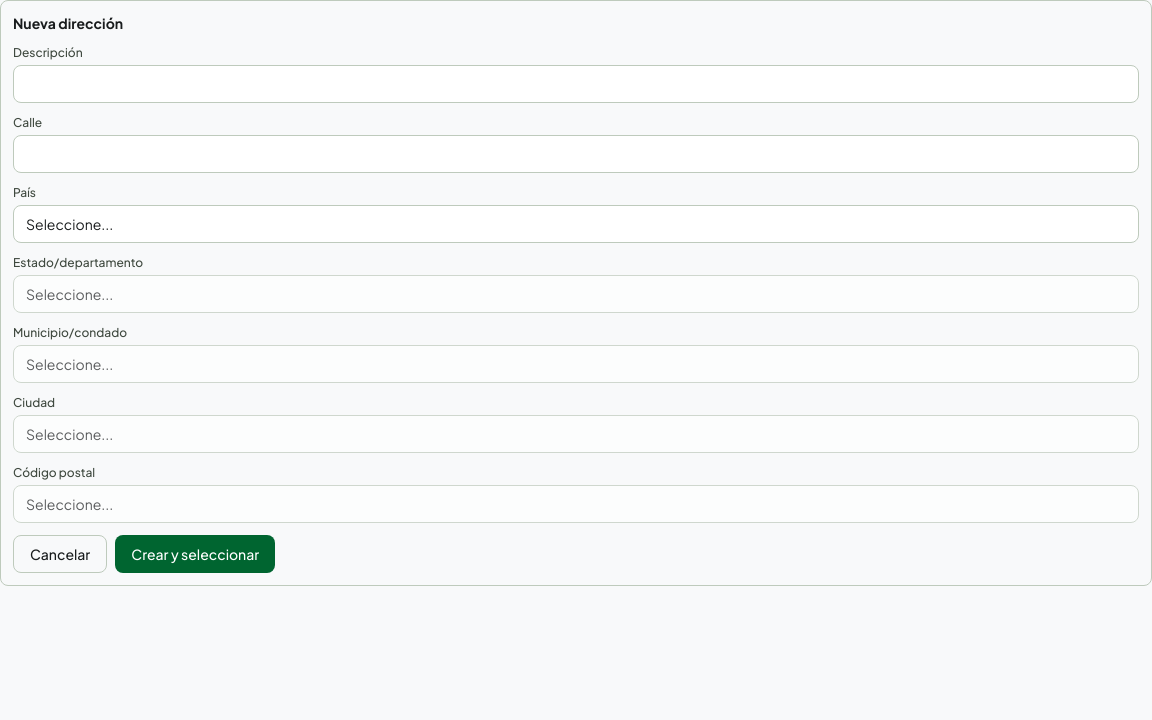
Test: NewAddressForm › renders creation errors without notifying success ({})
Type " Casa " into the field labelled "Descripción".
click(576, 84); type(" Casa ")  # box [13,65,1139,103]
Type " Calle 1 " into the field labelled "Calle".
click(576, 154); type(" Calle 1 ")  # box [13,135,1139,173]
Select "GTM · GTM" in the dropdown labelled "País" at (576, 224), box [13,205,1139,243]
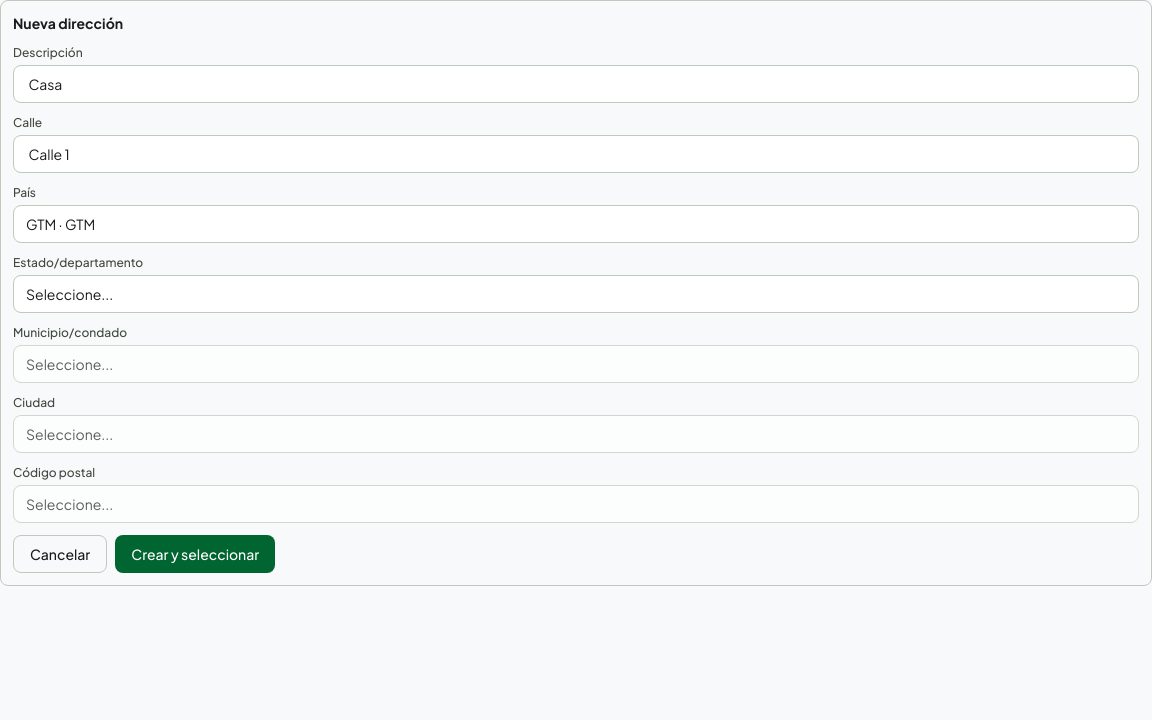
Select "01 · 01" in the dropdown labelled "Estado/departamento" at (576, 294), box [13,275,1139,313]
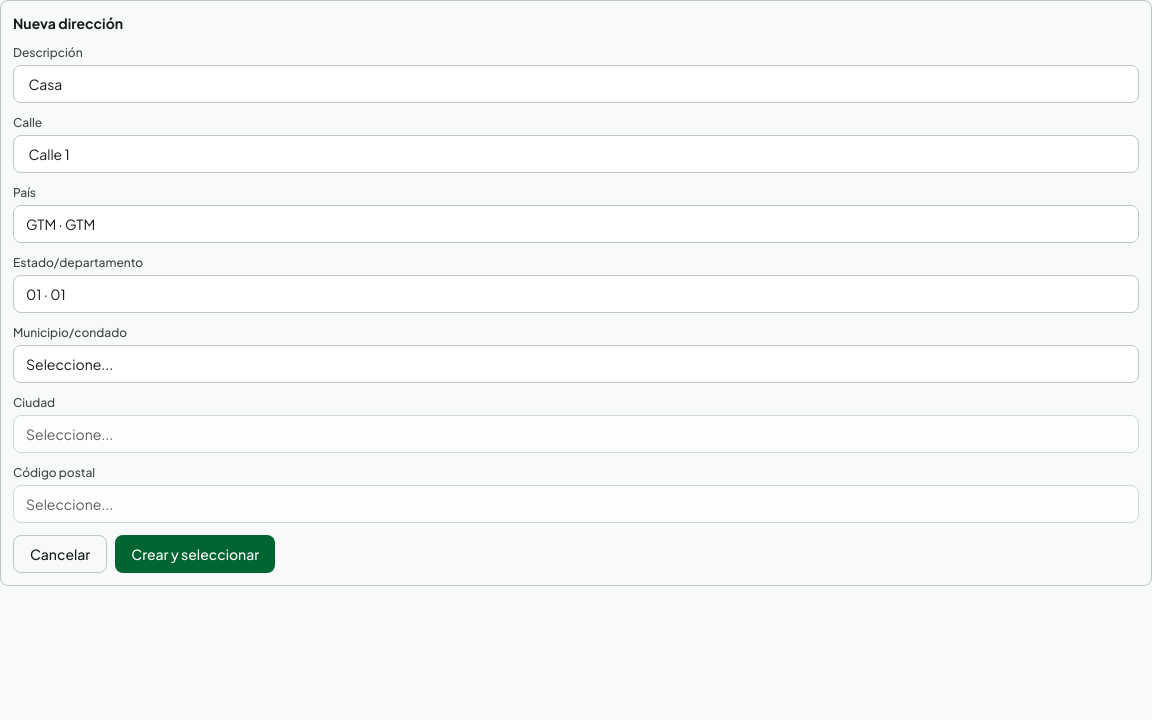
Select "0101 · 0101" in the dropdown labelled "Municipio/condado" at (576, 364), box [13,345,1139,383]
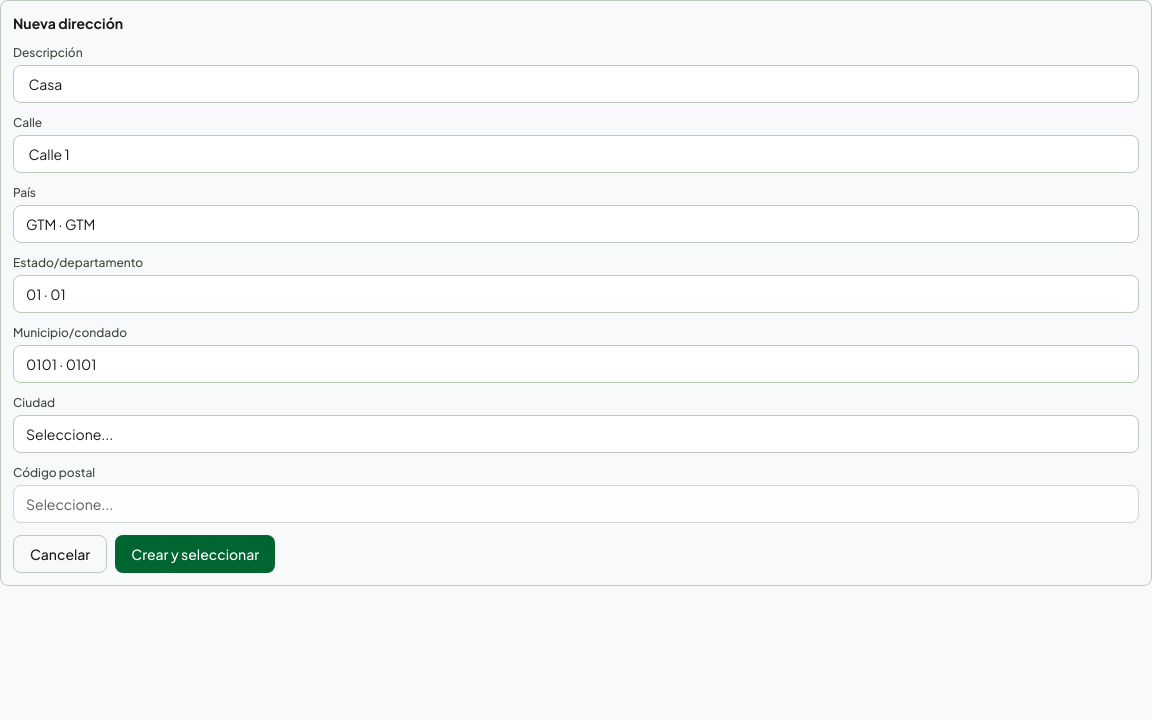
Select "GUA" in the dropdown labelled "Ciudad" at (576, 434), box [13,415,1139,453]
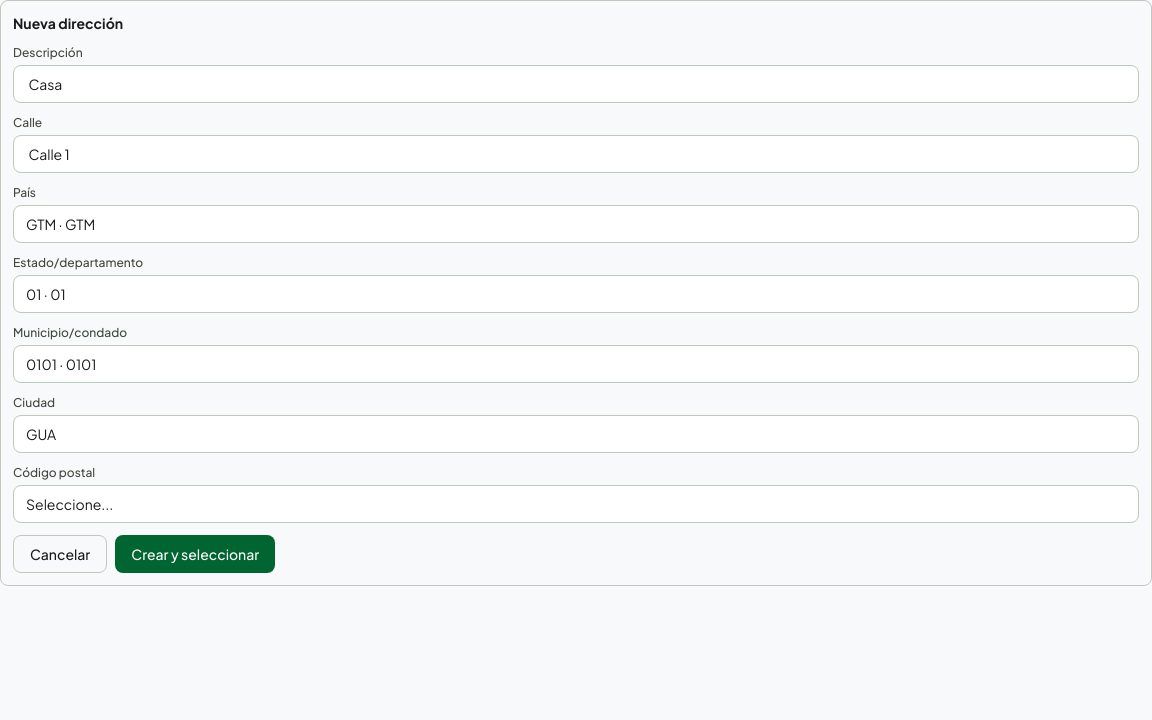
Select "01001" in the dropdown labelled "Código postal" at (576, 504), box [13,485,1139,523]
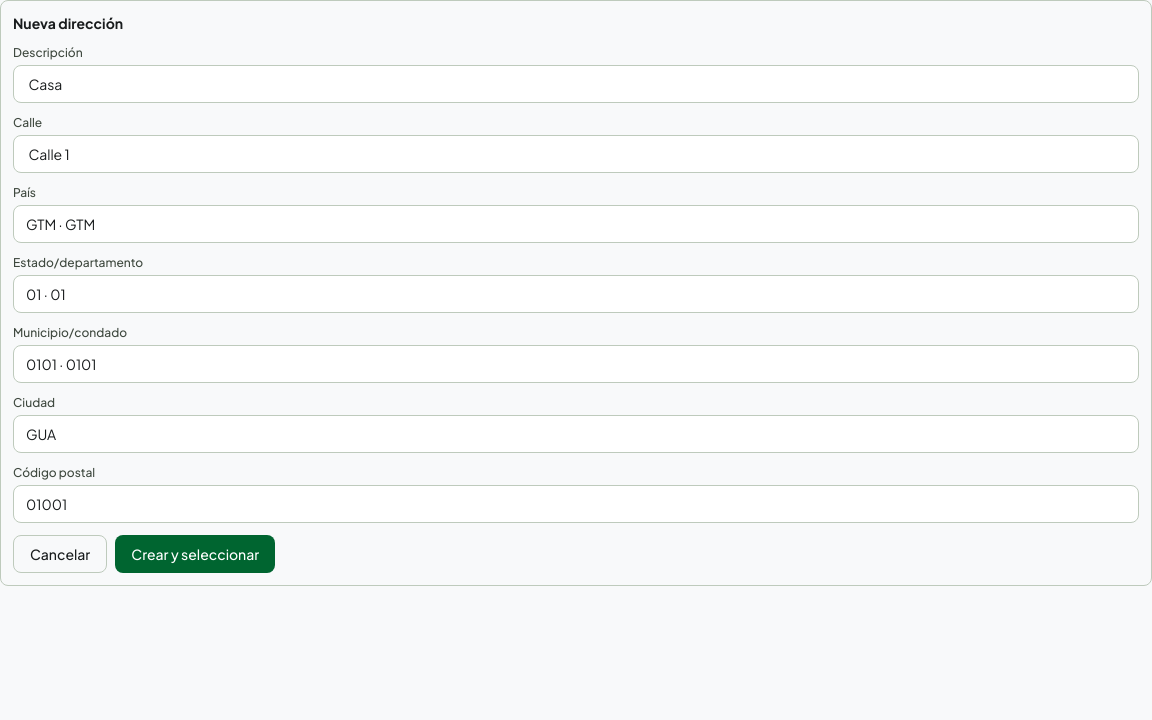
Click the button "Crear y seleccionar".
click(195, 554)  # box [115,535,275,573]
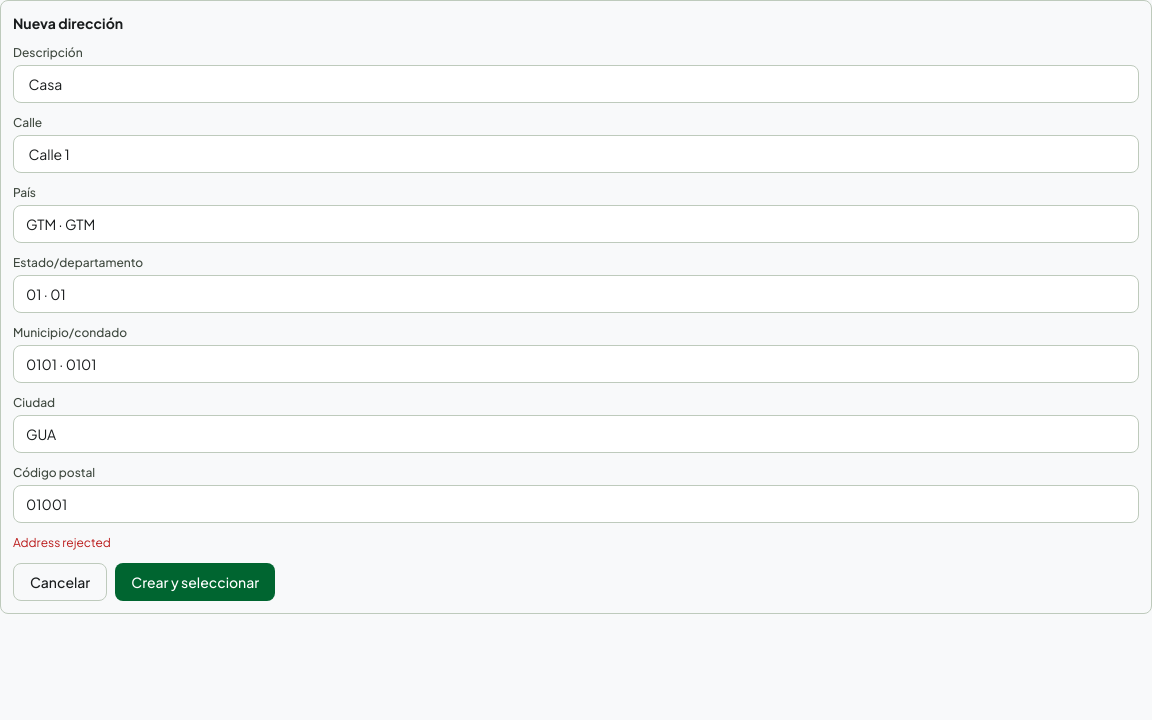
Now the message reads "Address rejected", box [13,535,111,550]
